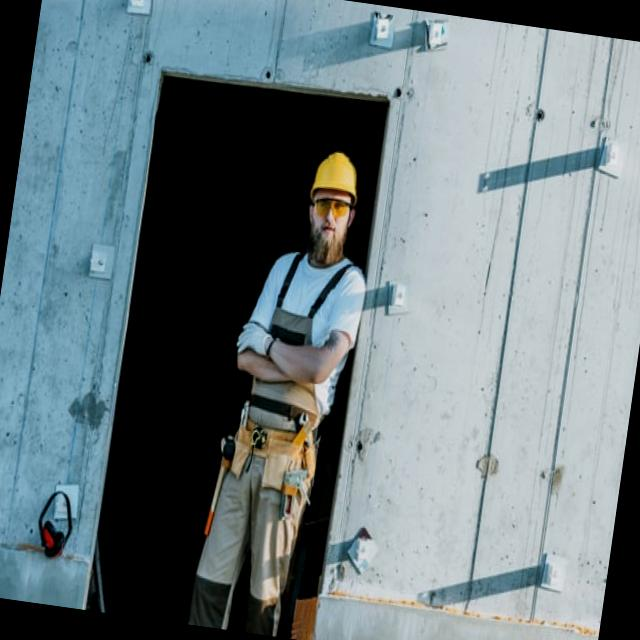goggles: (304, 192, 358, 222)
helmet: (304, 143, 370, 207)
no-vest: (245, 246, 356, 434)
